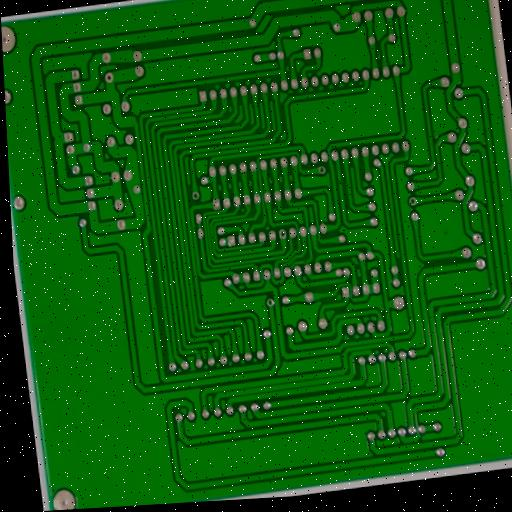missing_hole: (316, 164, 329, 178), (277, 227, 288, 241), (191, 190, 202, 203), (408, 196, 418, 208), (266, 298, 276, 309)
